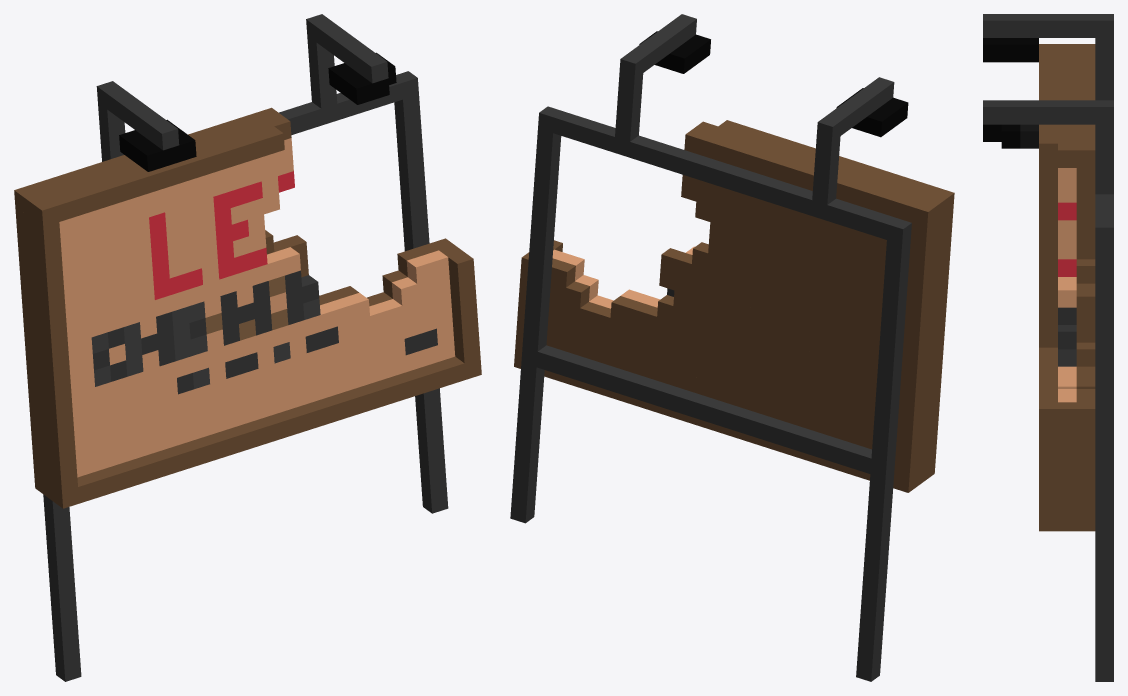
Rendered from sign.glb.
3 views of the same model, side by side, from view 1: azimuth 30°, elevation 25°; view 2: azimuth 150°, elevation 25°; view 3: azimuth 270°, elevation 25° (orthographic). The views are drawn at different scales.
Parts seen in each view (by area): view 1: no part large enough to name; view 2: no part large enough to name; view 3: Cube.425, Cube.566, Cube.868, Cube.876, Cube.422, Cube.534, Cube.837, Cube.853, Cube.856, Cube.867, Cube.875, Cube.385 (+94 smaller).
Part boxes in pixels (box(x1,y1,x2,y2)): Cube.425: box(1076, 402, 1095, 426); Cube.566: box(1076, 259, 1095, 283); Cube.868: box(1001, 100, 1020, 124); Cube.876: box(1076, 100, 1095, 124); Cube.422: box(1076, 342, 1095, 366); Cube.534: box(1076, 290, 1095, 314); Cube.837: box(1076, 143, 1095, 167); Cube.853: box(1001, 38, 1020, 62); Cube.856: box(1001, 124, 1020, 148); Cube.867: box(1001, 14, 1020, 37); Cube.875: box(1076, 14, 1095, 37); Cube.385: box(1039, 402, 1057, 426).
Size of the model in its own units: 27.24 by 35.29 by 7.
